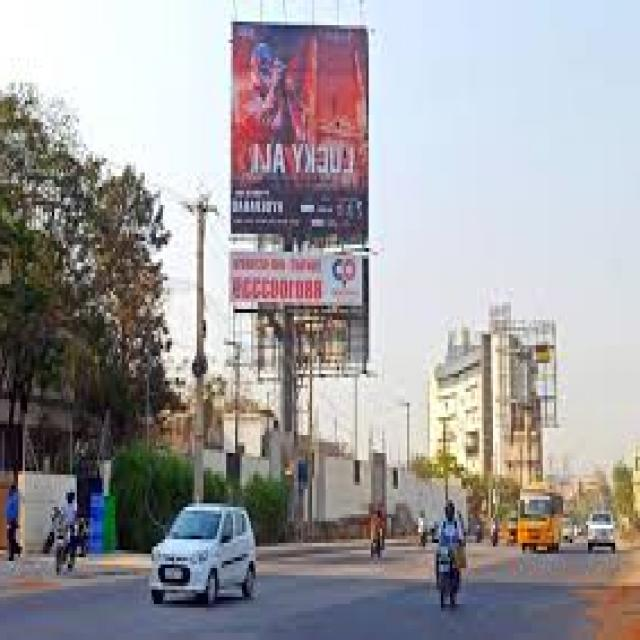Werbetafel frei: (232, 28, 369, 373)
